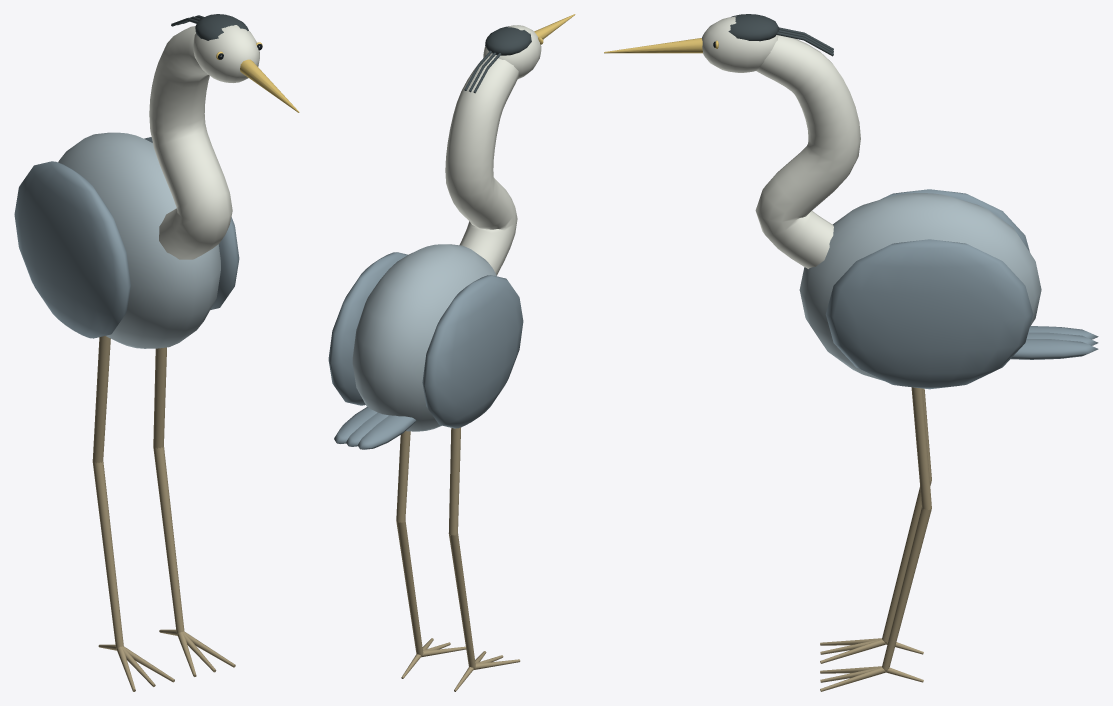
File: bird_heron.glb
3 renders of one model, left to right at view 1: azimuth 30°, elevation 25°; view 2: azimuth 150°, elevation 25°; view 3: azimuth 270°, elevation 25°, orthographic. The views are drawn at different scales.
Parts seen in each view (by area): view 1: Heron_Slender_Body, Heron_Folded_Wing_-1, Heron_Connected_S_Curve_Neck, Heron_Pale_Head, Heron_Long_Leg_-1_Bone_1, Heron_Long_Leg_1_Bone_1, Heron_Long_Leg_-1_Bone_0, Heron_Folded_Wing_1, Heron_Long_Leg_1_Bone_0, Heron_Dark_Cap, Heron_Long_Pointed_Bill; view 2: Heron_Slender_Body, Heron_Folded_Wing_-1, Heron_Connected_S_Curve_Neck, Heron_Folded_Wing_1, Heron_Long_Leg_-1_Bone_1, Heron_Long_Leg_1_Bone_1, Heron_Long_Leg_-1_Bone_0, Heron_Tail_Feather_0, Heron_Dark_Cap, Heron_Pale_Head, Heron_Long_Leg_1_Bone_0, Heron_Tail_Feather_2 (+1 smaller); view 3: Heron_Folded_Wing_1, Heron_Connected_S_Curve_Neck, Heron_Slender_Body, Heron_Pale_Head, Heron_Long_Leg_1_Bone_1, Heron_Tail_Feather_2, Heron_Long_Leg_1_Bone_0, Heron_Long_Leg_-1_Bone_1, Heron_Dark_Cap, Heron_Long_Pointed_Bill, Heron_Folded_Wing_-1.
Boxes of the visible parts, <box> form: Heron_Slender_Body: <box>58,132,220,348</box>; Heron_Folded_Wing_-1: <box>14,161,130,338</box>; Heron_Connected_S_Curve_Neck: <box>149,26,232,259</box>; Heron_Pale_Head: <box>193,25,259,82</box>; Heron_Long_Leg_-1_Bone_1: <box>92,461,123,647</box>; Heron_Long_Leg_1_Bone_1: <box>153,446,184,632</box>; Heron_Long_Leg_-1_Bone_0: <box>92,336,110,463</box>; Heron_Folded_Wing_1: <box>144,137,239,310</box>; Heron_Long_Leg_1_Bone_0: <box>153,347,166,448</box>; Heron_Dark_Cap: <box>195,14,248,40</box>; Heron_Long_Pointed_Bill: <box>240,59,299,112</box>; Heron_Slender_Body: <box>352,244,496,431</box>; Heron_Folded_Wing_-1: <box>422,275,523,428</box>; Heron_Connected_S_Curve_Neck: <box>445,56,518,275</box>; Heron_Folded_Wing_1: <box>328,252,408,405</box>; Heron_Long_Leg_-1_Bone_1: <box>448,533,475,667</box>; Heron_Long_Leg_1_Bone_1: <box>396,520,423,654</box>; Heron_Long_Leg_-1_Bone_0: <box>449,427,461,534</box>; Heron_Tail_Feather_0: <box>357,415,415,449</box>; Heron_Dark_Cap: <box>485,26,531,55</box>; Heron_Pale_Head: <box>483,25,541,78</box>; Heron_Long_Leg_1_Bone_0: <box>396,431,410,521</box>; Heron_Tail_Feather_2: <box>334,407,377,443</box>; Heron_Folded_Wing_1: <box>825,239,1033,389</box>; Heron_Connected_S_Curve_Neck: <box>755,35,860,268</box>; Heron_Slender_Body: <box>799,193,1041,380</box>; Heron_Pale_Head: <box>702,16,778,72</box>; Heron_Long_Leg_1_Bone_1: <box>882,507,931,669</box>; Heron_Tail_Feather_2: <box>1011,339,1098,359</box>; Heron_Long_Leg_1_Bone_0: <box>911,387,931,509</box>; Heron_Long_Leg_-1_Bone_1: <box>882,480,931,641</box>; Heron_Dark_Cap: <box>728,14,779,41</box>; Heron_Long_Pointed_Bill: <box>604,38,702,53</box>; Heron_Folded_Wing_-1: <box>880,189,1029,251</box>.
Size of the model in its own units: 0.254 by 1.13 by 0.7771.
